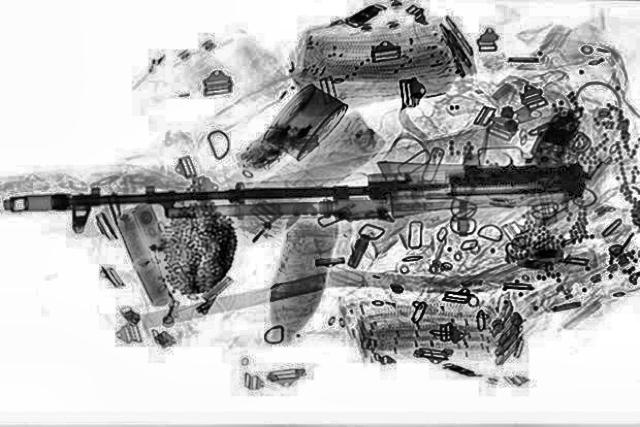Gun: (0, 110, 588, 237)
